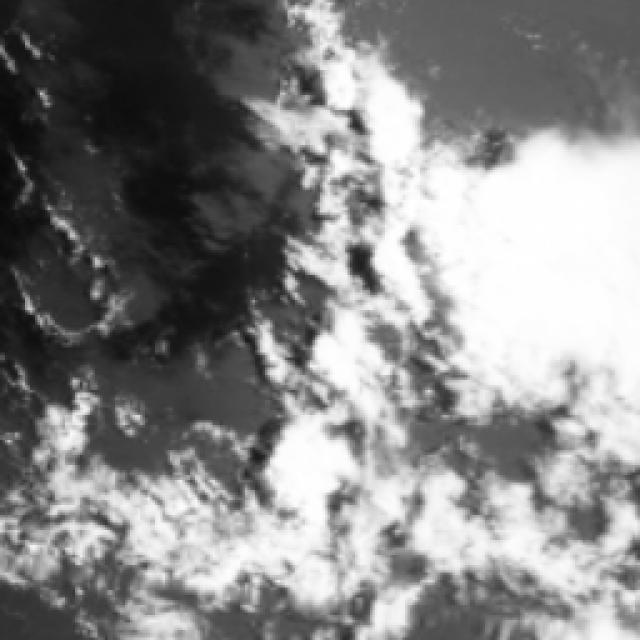CB: (465, 182, 640, 320)
